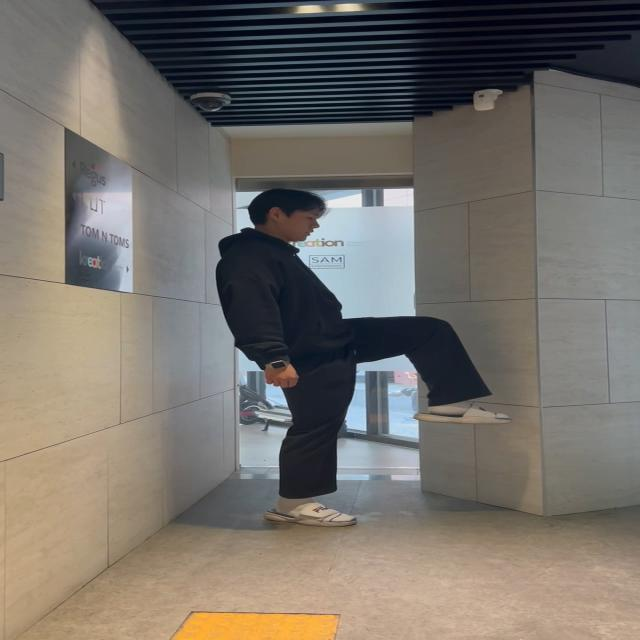knee: (343, 301, 534, 444)
